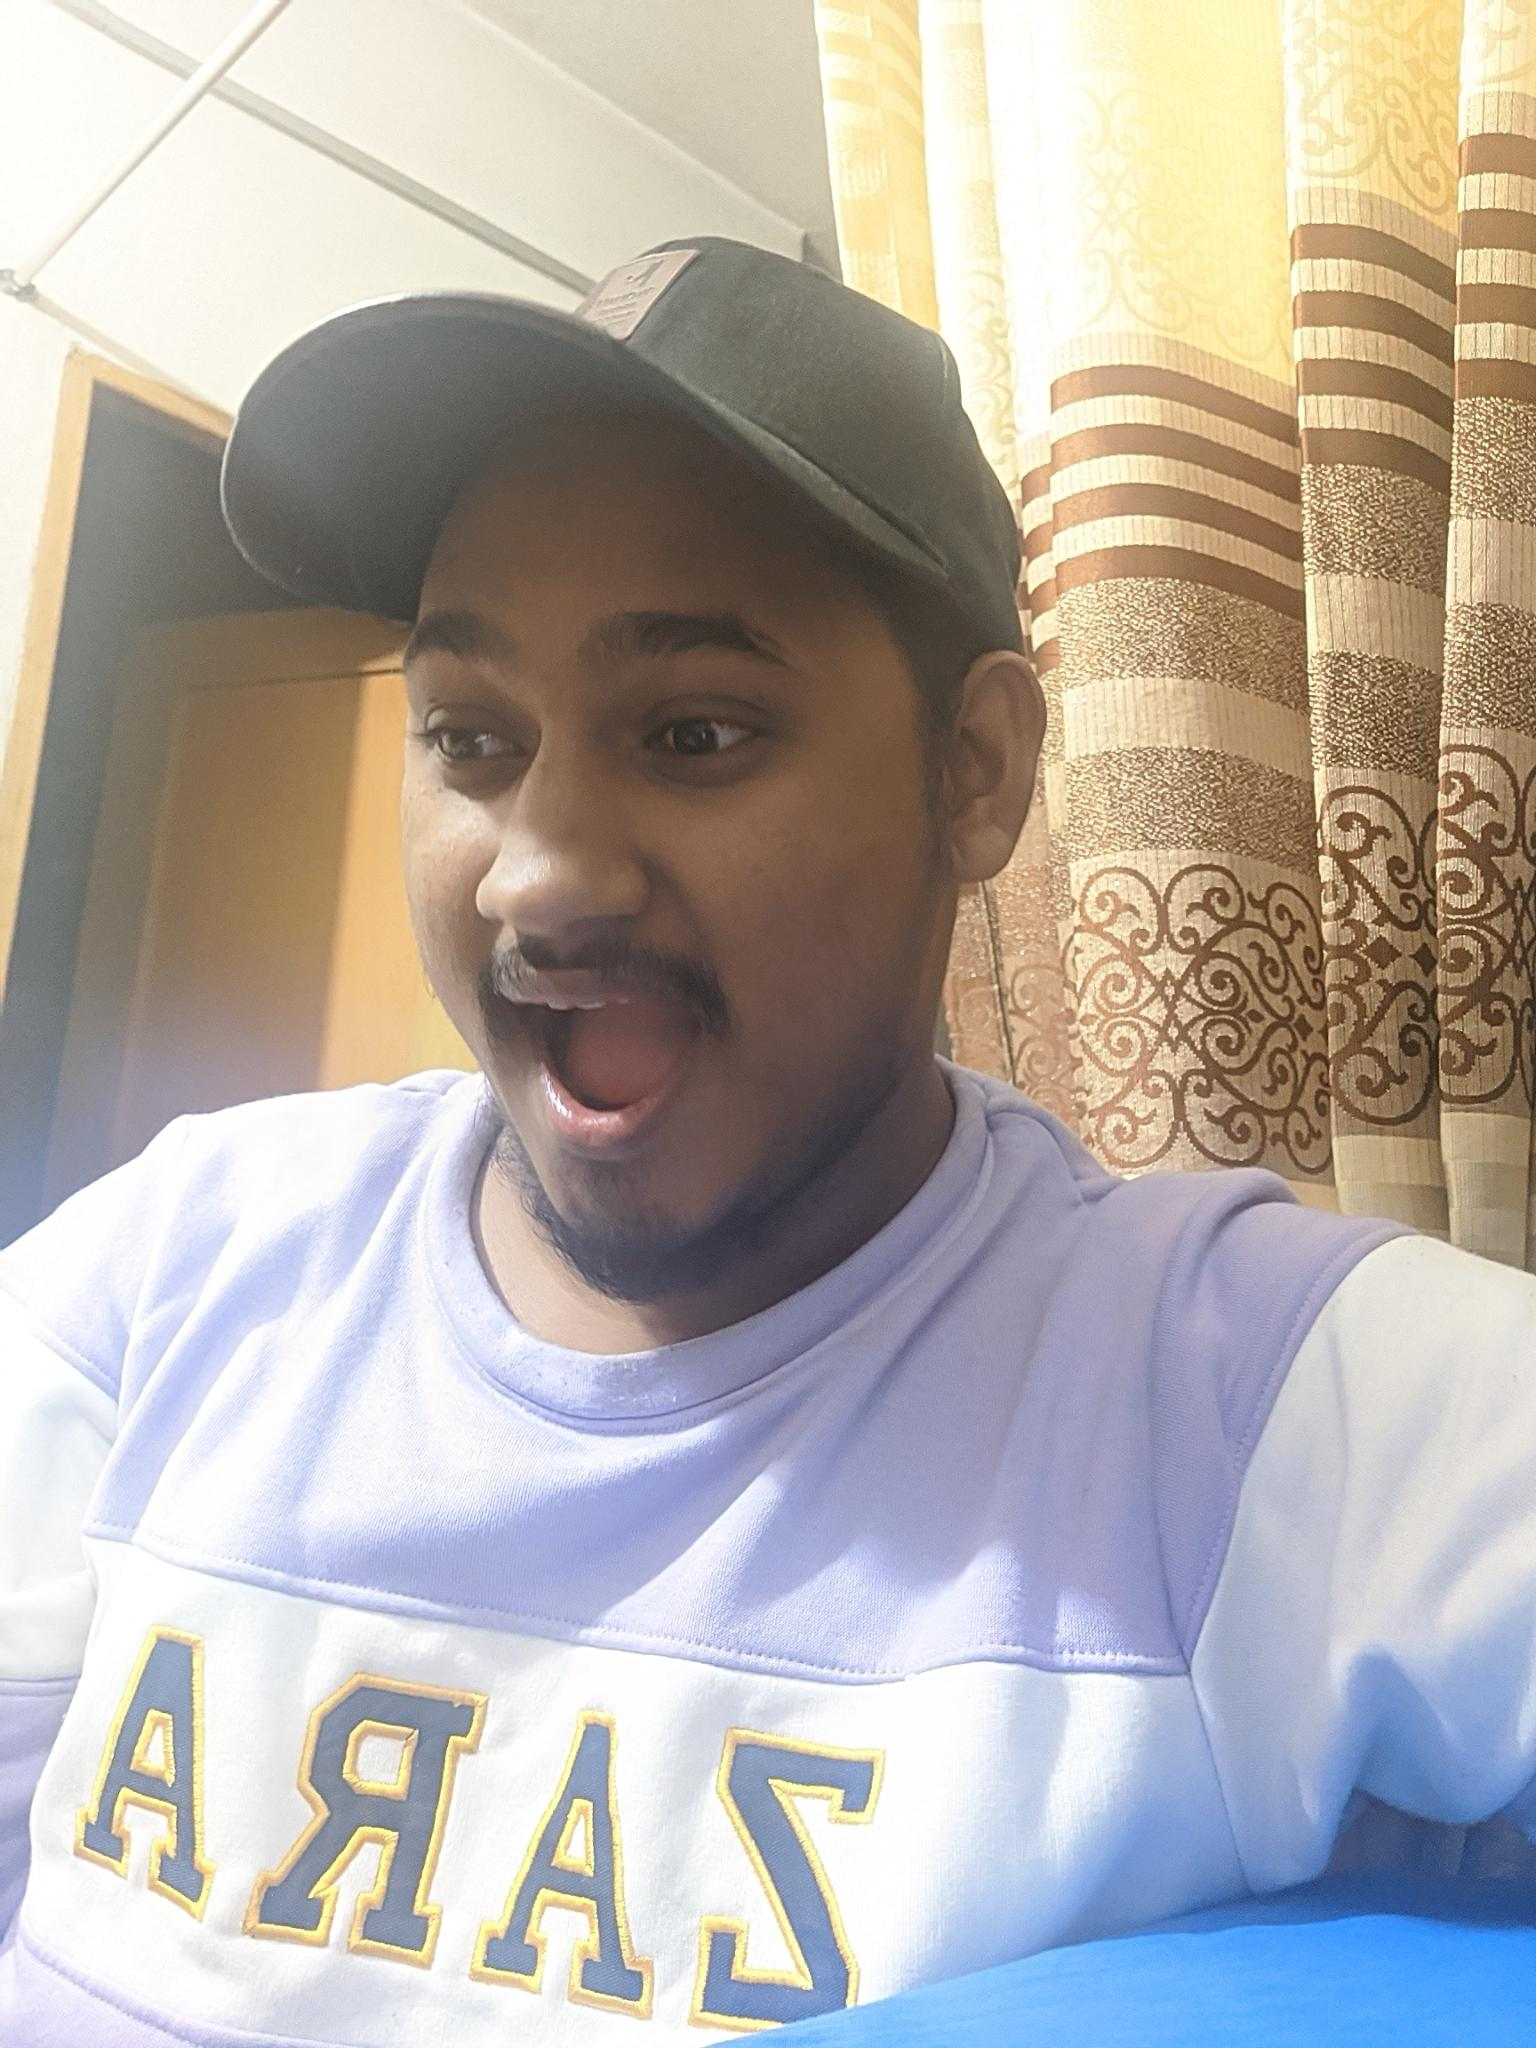Surprise: (334, 521, 910, 1272)
